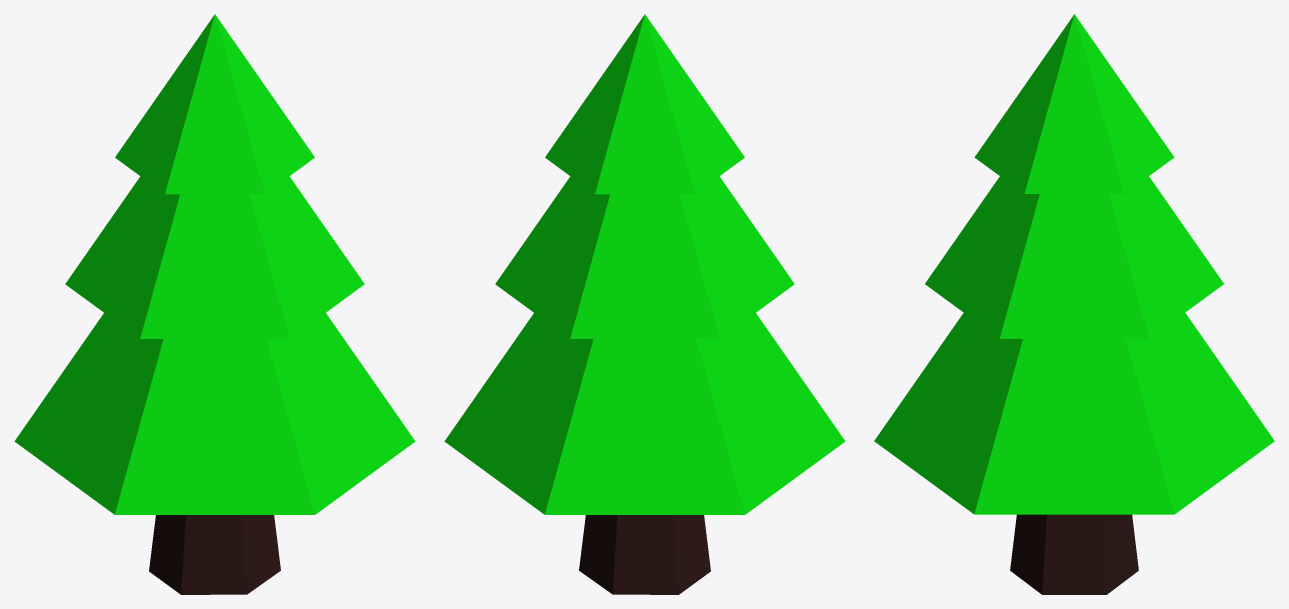
The model's file is Tree_1.fbx.
3 views of the same model, side by side, from view 1: azimuth 30°, elevation 25°; view 2: azimuth 150°, elevation 25°; view 3: azimuth 270°, elevation 25° (orthographic).
Visible parts, largest first — view 1: Tree_Crown, Tree_Trunk; view 2: Tree_Crown, Tree_Trunk; view 3: Tree_Crown, Tree_Trunk.
Part boxes in pixels (<box>): Tree_Crown: <box>14,14,415,514</box>; Tree_Trunk: <box>149,515,280,594</box>; Tree_Crown: <box>444,14,845,514</box>; Tree_Trunk: <box>579,515,710,594</box>; Tree_Crown: <box>874,14,1274,514</box>; Tree_Trunk: <box>1010,514,1138,594</box>.
Size of the model in its own units: 1.73 by 3.06 by 2.
